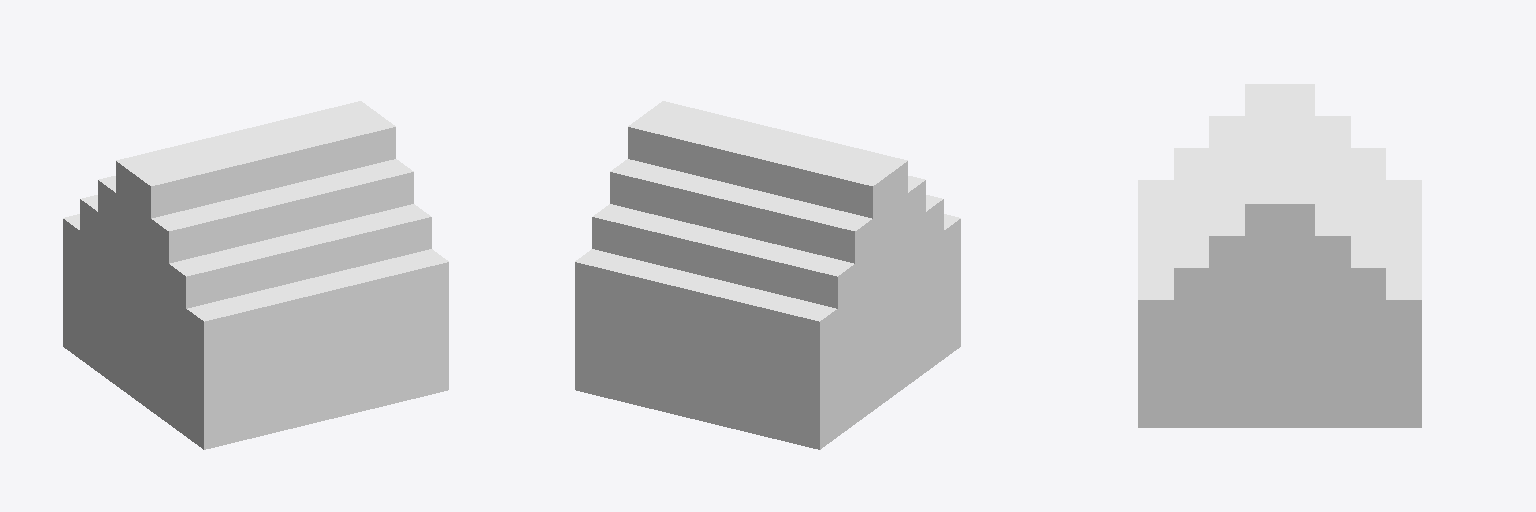
File: barn.obj
3 renders of one model, left to right at view 1: azimuth 30°, elevation 25°; view 2: azimuth 150°, elevation 25°; view 3: azimuth 270°, elevation 25°, orthographic.
Size of the model in its own units: 8 by 7 by 8.